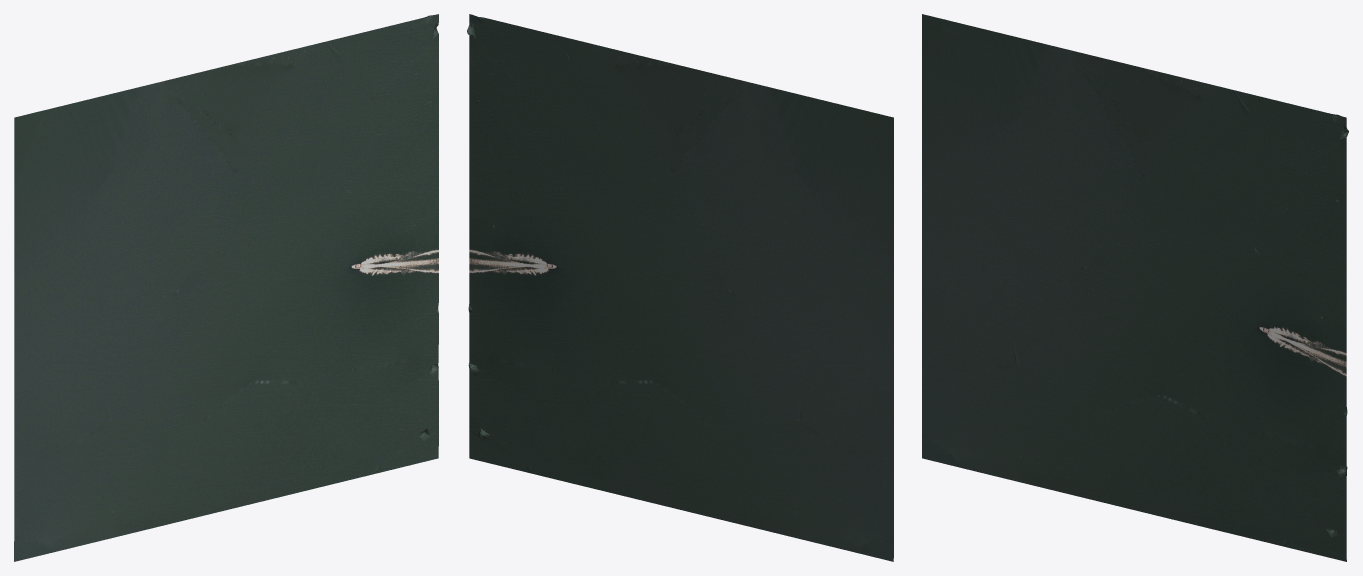
File: Tile_+1999_+2683.obj
3 views of the same model, side by side, from view 1: azimuth 30°, elevation 25°; view 2: azimuth 150°, elevation 25°; view 3: azimuth 330°, elevation 25° (orthographic).
Bounding box in the file's own units: 252 × 252 × 3.71.
1 material, 1 textured.
